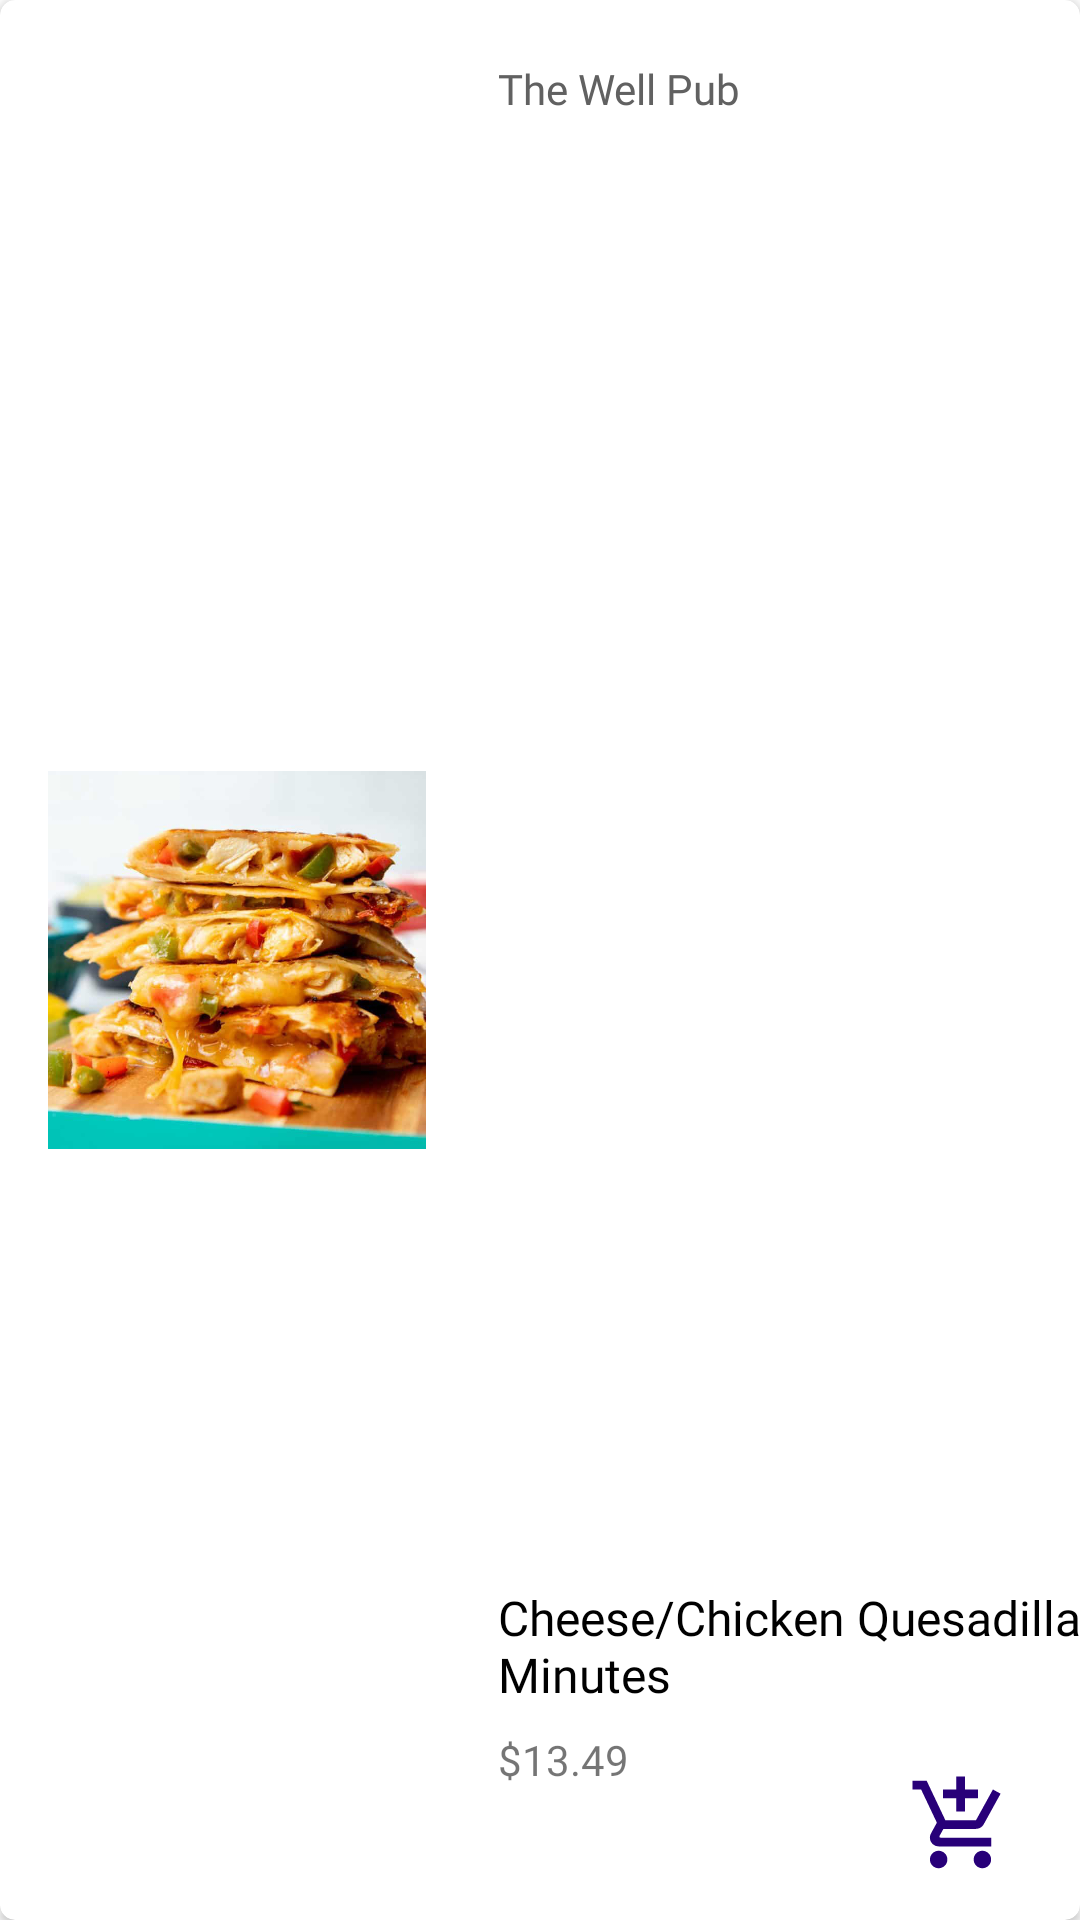

Icon click points for this 1080w x 1920h phone screenshot, format [x,y]:
add shopping cart: [956,1822]
